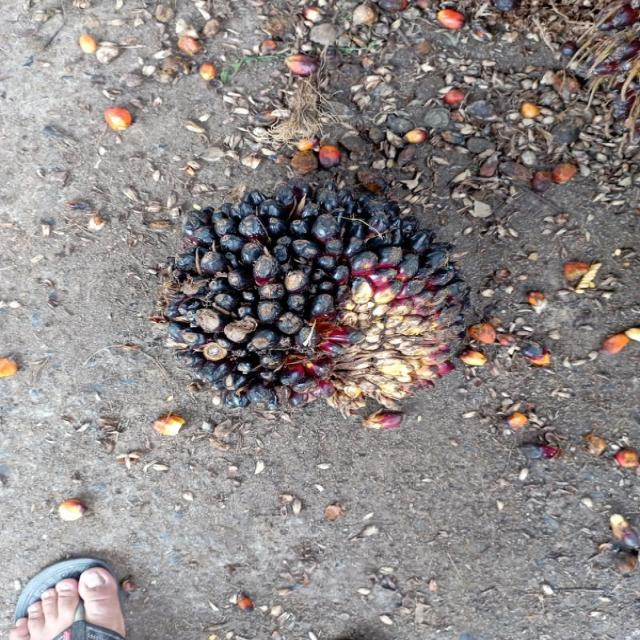fraksi 00: (149, 170, 483, 422)
